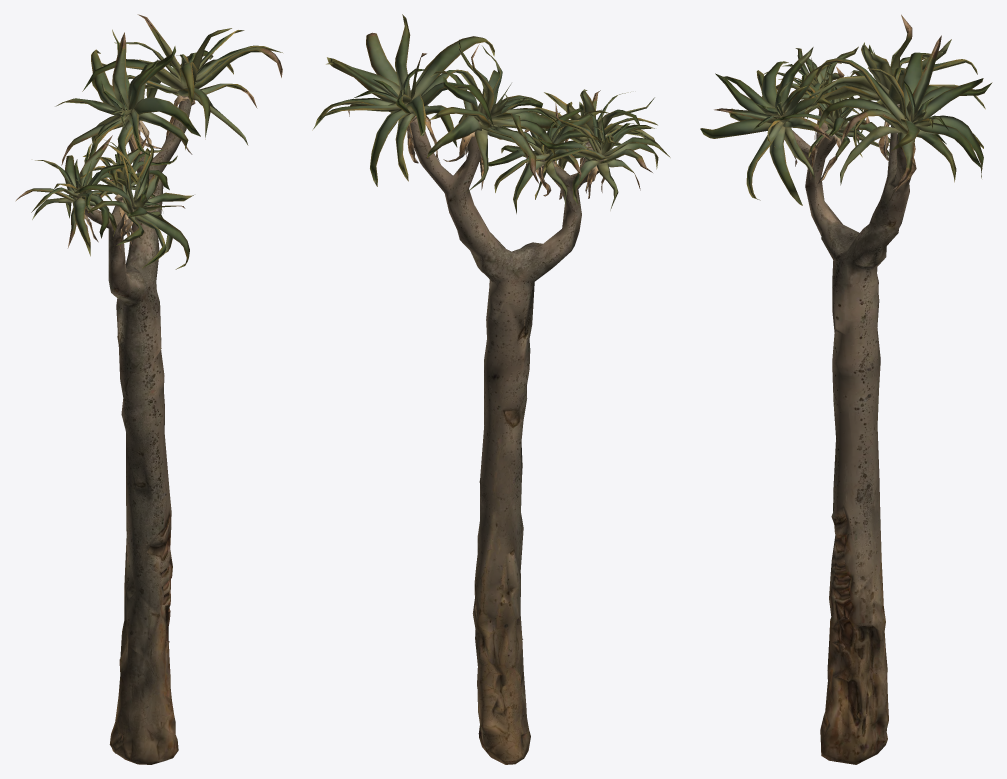
The model's file is quiver_tree_01_lod1.glb.
3 renders of one model, left to right at view 1: azimuth 30°, elevation 25°; view 2: azimuth 150°, elevation 25°; view 3: azimuth 270°, elevation 25°, orthographic. The views are drawn at different scales.
Parts seen in each view (by area): view 1: quiver_tree_01; view 2: quiver_tree_01; view 3: quiver_tree_01.
Part boxes in pixels (x1=…): quiver_tree_01: x1=15, y1=14, x2=282, y2=764; quiver_tree_01: x1=312, y1=14, x2=670, y2=764; quiver_tree_01: x1=700, y1=14, x2=992, y2=764.
Bounding box in the file's own units: 1.18 × 2.72 × 0.9655.
2 materials, 2 textured.
